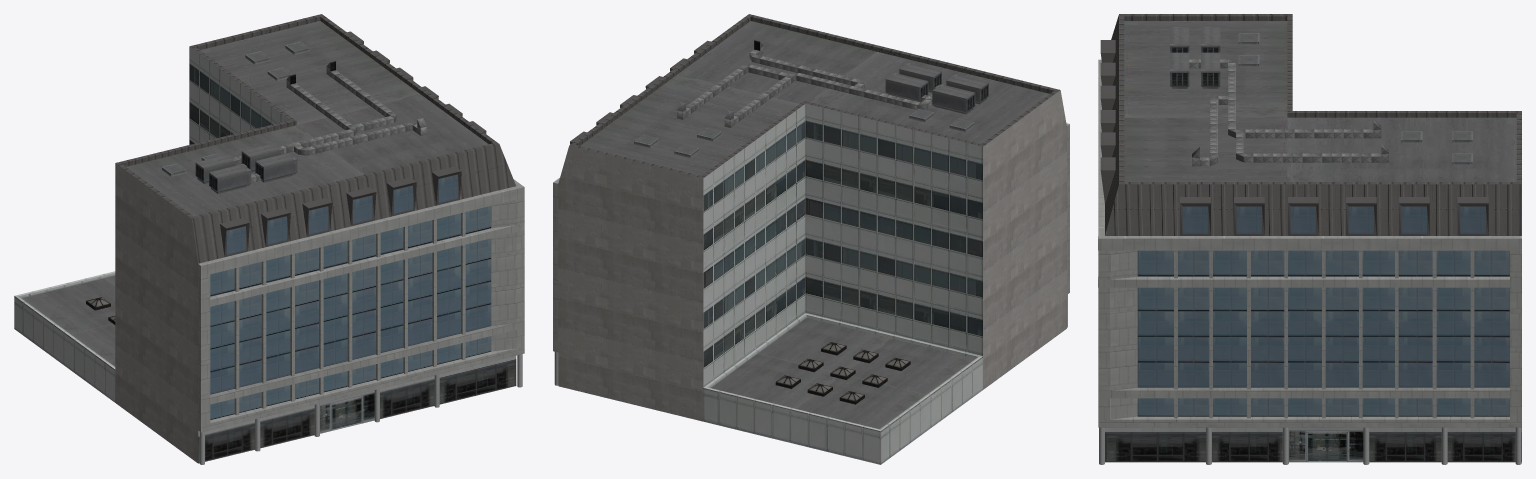
The model's file is office-l3.glb.
The picture shows the model from 3 angles, left to right: view 1: azimuth 30°, elevation 25°; view 2: azimuth 150°, elevation 25°; view 3: azimuth 270°, elevation 25°; orthographic projection. The views are drawn at different scales.
Visible parts, largest first — view 1: AIT01W2W9_AIT01W2W9_0; view 2: AIT01W2W9_AIT01W2W9_0; view 3: AIT01W2W9_AIT01W2W9_0.
Part boxes in pixels (box(x1,y1,x2,y2)): AIT01W2W9_AIT01W2W9_0: box(14, 14, 524, 464); AIT01W2W9_AIT01W2W9_0: box(553, 14, 1069, 464); AIT01W2W9_AIT01W2W9_0: box(1098, 14, 1521, 464).
Bounding box in the file's own units: 32.53 × 24.24 × 32.53.
Materials: 1 (1 with a texture image).
